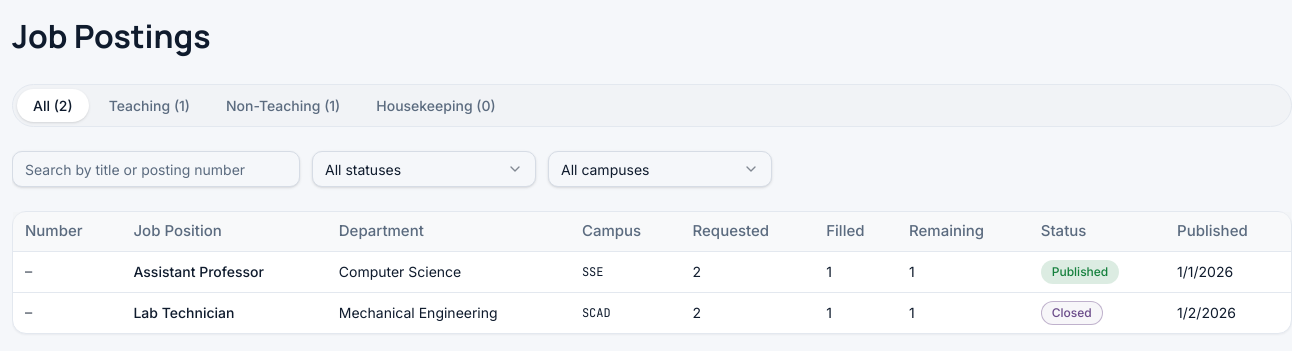
Test: JobPostingsListPage › narrows the list client-side by campus
Expected: the link "Assistant Professor" is shown, [134,263,264,280]
Click the dropdown named "Campus filter" at (660, 169), box [548,151,772,187]
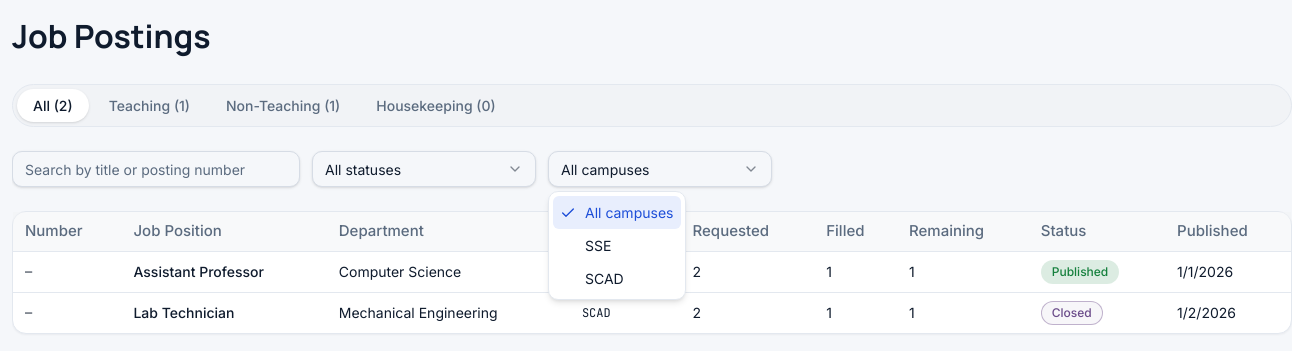
Click the option "SCAD" at (604, 278), box [585,270,624,287]
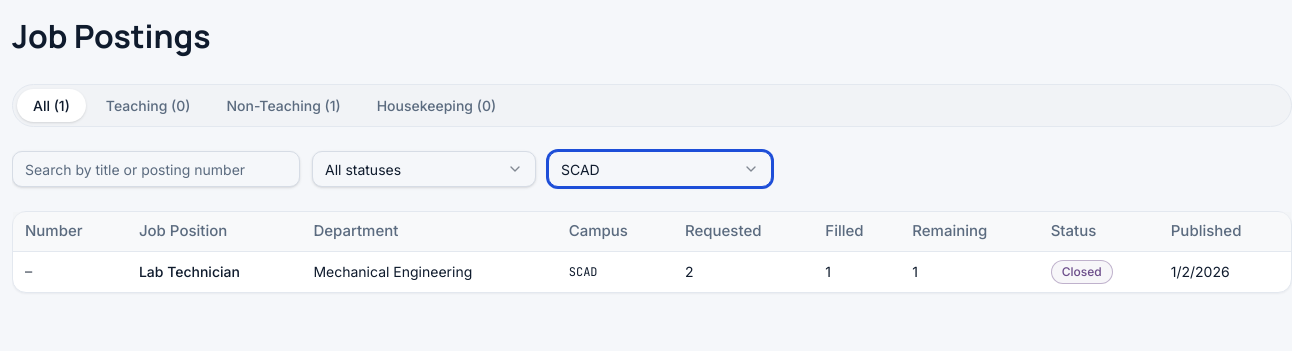
Expected: the link "Lab Technician" is shown, [139,263,240,280]
Now the link "Assistant Professor" is gone
